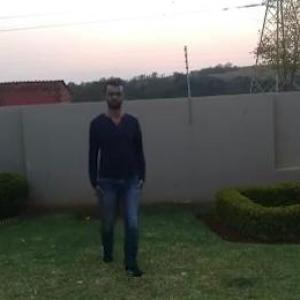follow: (83, 80, 147, 272)
